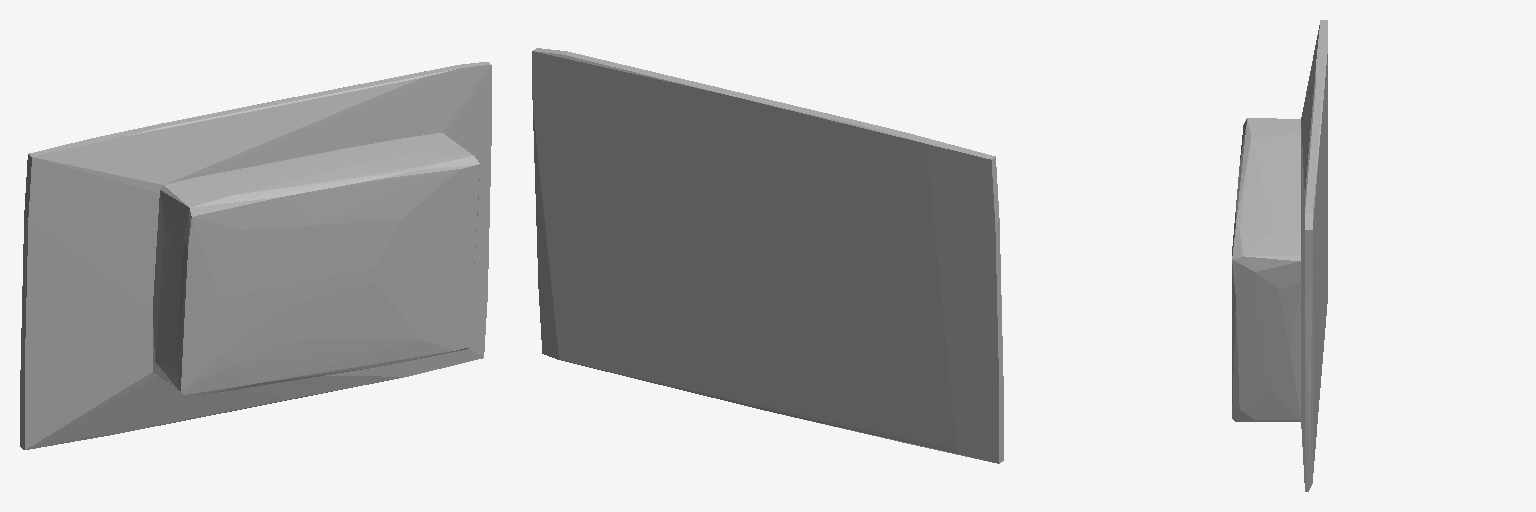
robot.urdf — root:
<robot name="root">
  <link name="link_kit_packaged~VitalisCereals_800_tex_packaged_convex_piece_0">
    <inertial>
      <origin rpy="0 0 0" xyz="0 0 0"/>
      <mass value="1.42E+00"/>
      <inertia ixx="1.31E-03" ixy="-6.99E-05" ixz="-9.05E-05" iyy="3.98E-03" iyz="6.56E-06" izz="3.01E-03"/>
    </inertial>
    <visual>
      <origin rpy="0 0 0" xyz="0 0 0"/>
      <geometry>
        <mesh filename="kit_packaged~VitalisCereals_800_tex_packaged_convex_piece_0.obj" scale="1.0000E+00 1.0000E+00 1.0000E+00"/>
      </geometry>
      <material name="">
        <color rgba="7.50E-01 7.50E-01 7.50E-01 1"/>
      </material>
    </visual>
    <collision>
      <origin rpy="0 0 0" xyz="0 0 0"/>
      <geometry>
        <mesh filename="kit_packaged~VitalisCereals_800_tex_packaged_convex_piece_0.obj" scale="1.0000E+00 1.0000E+00 1.0000E+00"/>
      </geometry>
    </collision>
  </link>
  <link name="link_kit_packaged~VitalisCereals_800_tex_packaged_convex_piece_1">
    <inertial>
      <origin rpy="0 0 0" xyz="0 0 0"/>
      <mass value="8.63E-01"/>
      <inertia ixx="1.81E-03" ixy="-4.67E-04" ixz="-5.05E-05" iyy="5.53E-03" iyz="1.79E-05" izz="4.29E-03"/>
    </inertial>
    <visual>
      <origin rpy="0 0 0" xyz="0 0 0"/>
      <geometry>
        <mesh filename="kit_packaged~VitalisCereals_800_tex_packaged_convex_piece_1.obj" scale="1.0000E+00 1.0000E+00 1.0000E+00"/>
      </geometry>
      <material name="">
        <color rgba="7.50E-01 7.50E-01 7.50E-01 1"/>
      </material>
    </visual>
    <collision>
      <origin rpy="0 0 0" xyz="0 0 0"/>
      <geometry>
        <mesh filename="kit_packaged~VitalisCereals_800_tex_packaged_convex_piece_1.obj" scale="1.0000E+00 1.0000E+00 1.0000E+00"/>
      </geometry>
    </collision>
  </link>
  <joint name="link_kit_packaged~VitalisCereals_800_tex_packaged_convex_piece_1_joint" type="fixed">
    <origin rpy="0 0 0" xyz="0 0 0"/>
    <parent link="link_kit_packaged~VitalisCereals_800_tex_packaged_convex_piece_0"/>
    <child link="link_kit_packaged~VitalisCereals_800_tex_packaged_convex_piece_1"/>
  </joint>
</robot>

--- Render facts (derived) ---
Views: 3 orthographic renders of the robot side by side, from view 1: azimuth 30°, elevation 25°; view 2: azimuth 150°, elevation 25°; view 3: azimuth 270°, elevation 25°.
Robot: root — 2 links, 1 joints (1 fixed); root link link_kit_packaged~VitalisCereals_800_tex_packaged_convex_piece_0; default pose: every joint at zero.
Links seen in each view (by area): view 1: link_kit_packaged~VitalisCereals_800_tex_packaged_convex_piece_1, link_kit_packaged~VitalisCereals_800_tex_packaged_convex_piece_0; view 2: link_kit_packaged~VitalisCereals_800_tex_packaged_convex_piece_1; view 3: link_kit_packaged~VitalisCereals_800_tex_packaged_convex_piece_0, link_kit_packaged~VitalisCereals_800_tex_packaged_convex_piece_1.
Boxes of the visible links, x1=… form: link_kit_packaged~VitalisCereals_800_tex_packaged_convex_piece_1: x1=20, y1=62, x2=491, y2=449; link_kit_packaged~VitalisCereals_800_tex_packaged_convex_piece_0: x1=153, y1=133, x2=479, y2=394; link_kit_packaged~VitalisCereals_800_tex_packaged_convex_piece_1: x1=532, y1=48, x2=1003, y2=463; link_kit_packaged~VitalisCereals_800_tex_packaged_convex_piece_0: x1=1232, y1=118, x2=1300, y2=421; link_kit_packaged~VitalisCereals_800_tex_packaged_convex_piece_1: x1=1301, y1=20, x2=1327, y2=491.
Size in the robot's own frame: 0.2481 by 0.0496 by 0.1568 metres.
Meshes: 2 distinct files referenced, 2 mesh visuals loaded (2 OBJ).
